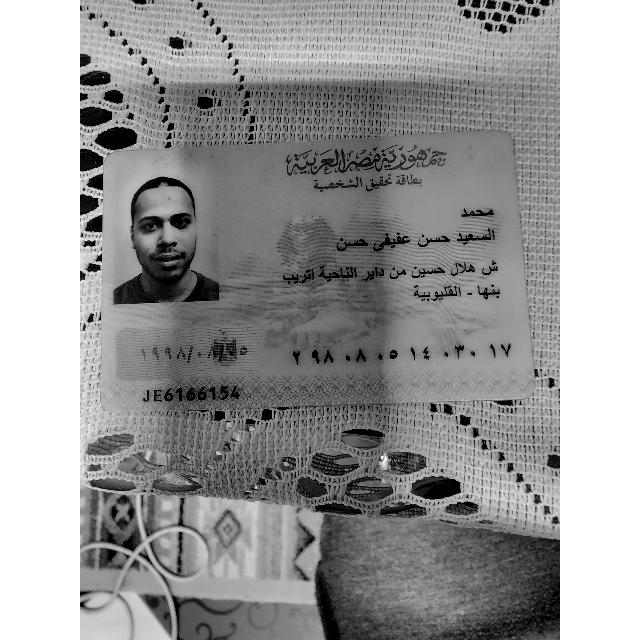id_card: (109, 137, 535, 392)
